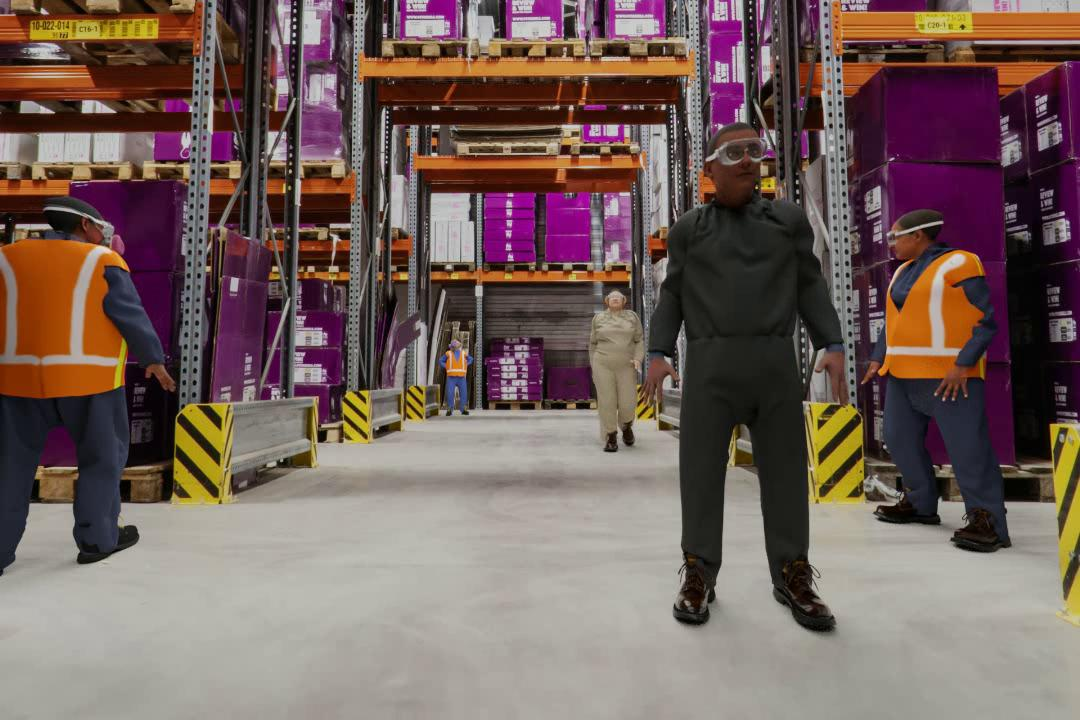Goggles: (706, 133, 763, 174), (604, 299, 622, 305)
Jacket: (0, 237, 130, 409), (879, 253, 980, 380), (445, 349, 469, 378)
Shoes: (761, 546, 850, 636), (674, 556, 729, 637), (67, 521, 151, 564), (876, 493, 944, 533), (947, 513, 1006, 556), (601, 430, 620, 451), (618, 423, 635, 444), (443, 405, 454, 421), (459, 407, 471, 417)
